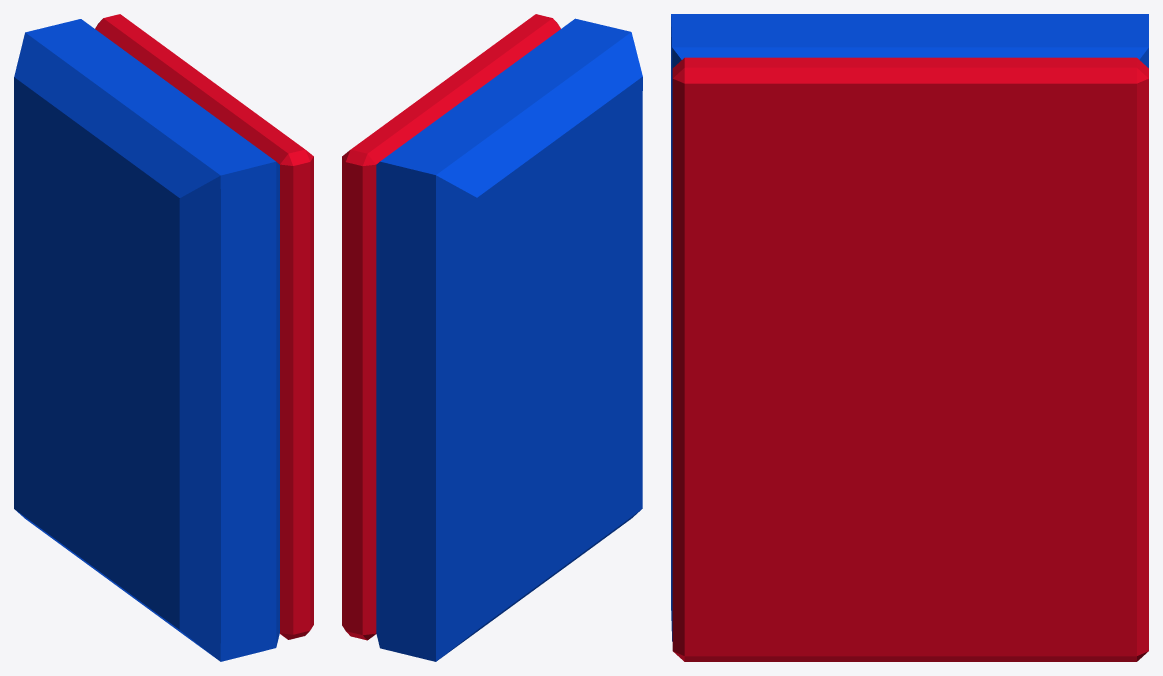
Rendered from alarmbox.fbx.
3 views of the same model, side by side, from view 1: azimuth 30°, elevation 25°; view 2: azimuth 150°, elevation 25°; view 3: azimuth 270°, elevation 25° (orthographic). The views are drawn at different scales.
Parts seen in each view (by area): view 1: Body, Lid; view 2: Body, Lid; view 3: Lid, Body.
Boxes of the visible parts, x1,y1,x2,y2 form: Body: [14, 19, 279, 661]; Lid: [95, 14, 313, 639]; Body: [376, 18, 642, 661]; Lid: [342, 14, 560, 640]; Lid: [672, 57, 1148, 661]; Body: [671, 14, 1148, 641].
Size of the model in its own units: 1.78 by 6.63 by 4.83.
